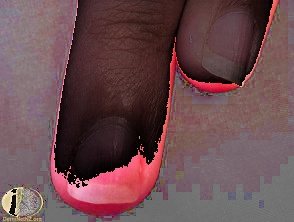Nail_psoriasis: (50, 116, 160, 221)
